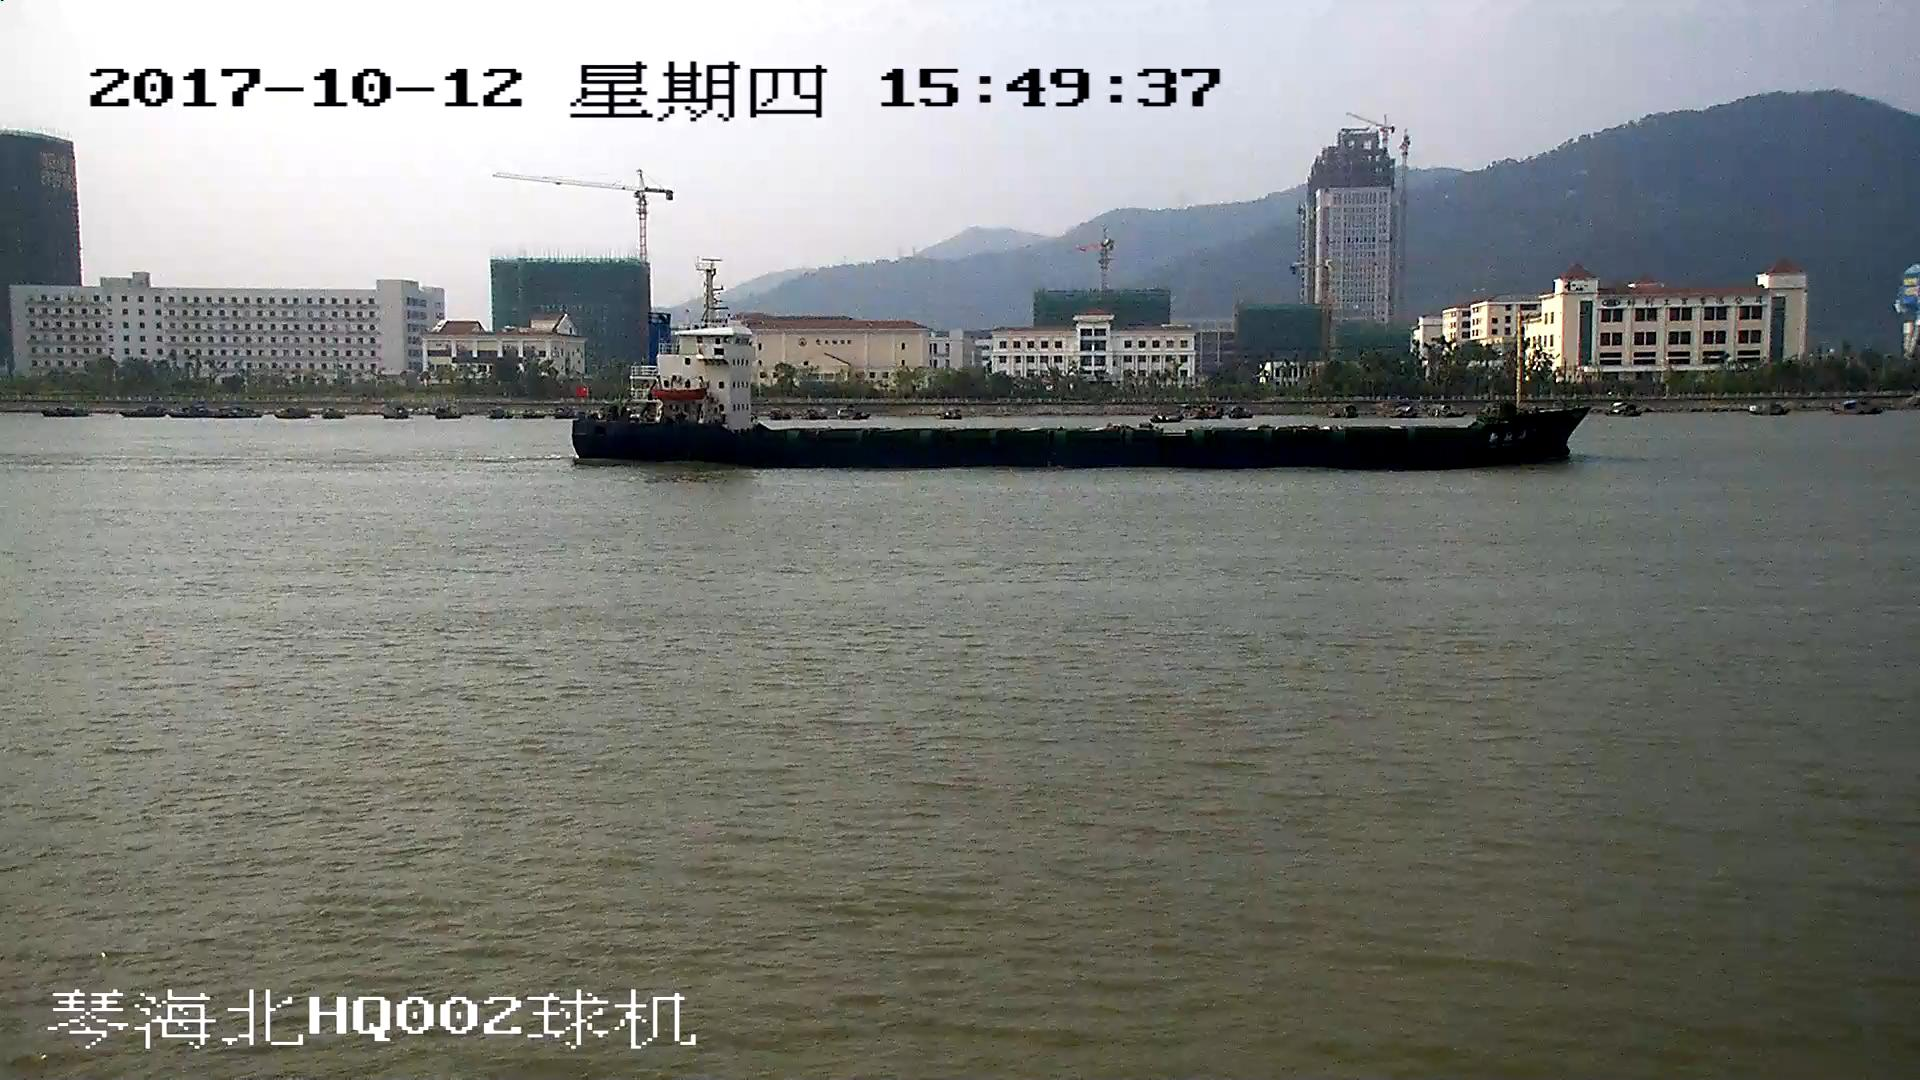general cargo ship: (571, 263, 1585, 473)
